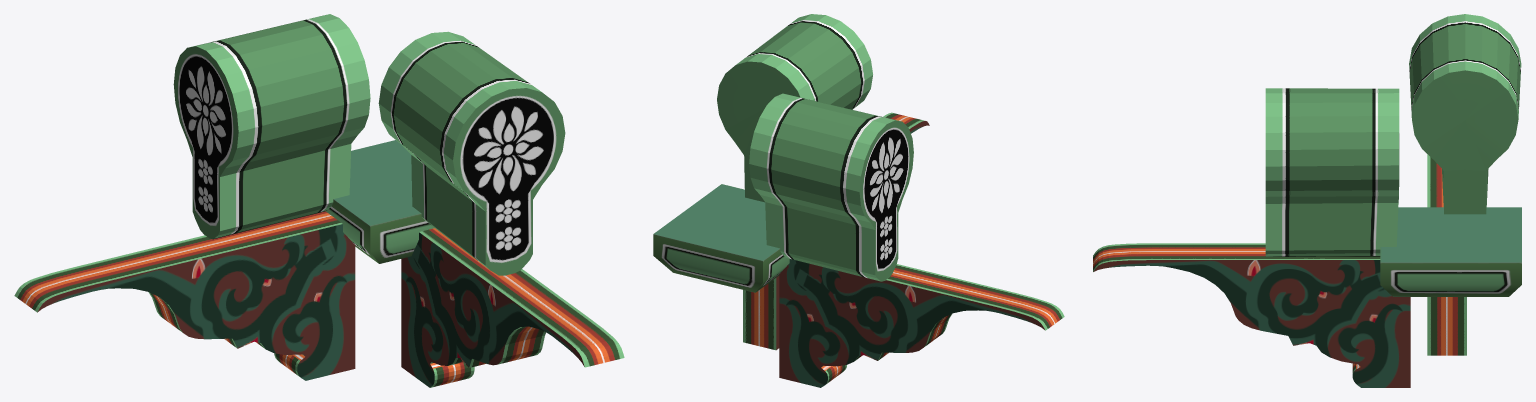
Rendered from SM_R_DancheongCorner_4.fbx.
The picture shows the model from 3 angles, left to right: view 1: azimuth 30°, elevation 25°; view 2: azimuth 150°, elevation 25°; view 3: azimuth 270°, elevation 25°; orthographic projection. The views are drawn at different scales.
Visible parts, largest first — view 1: SM_R_DancheongCorner_4; view 2: SM_R_DancheongCorner_4; view 3: SM_R_DancheongCorner_4.
Part boxes in pixels (box(x1,y1,x2,y2)): SM_R_DancheongCorner_4: box(14, 14, 624, 387); SM_R_DancheongCorner_4: box(653, 14, 1064, 387); SM_R_DancheongCorner_4: box(1093, 14, 1521, 387).
Size of the model in its own units: 101 by 99.43 by 73.75.
3 materials, 3 textured.
